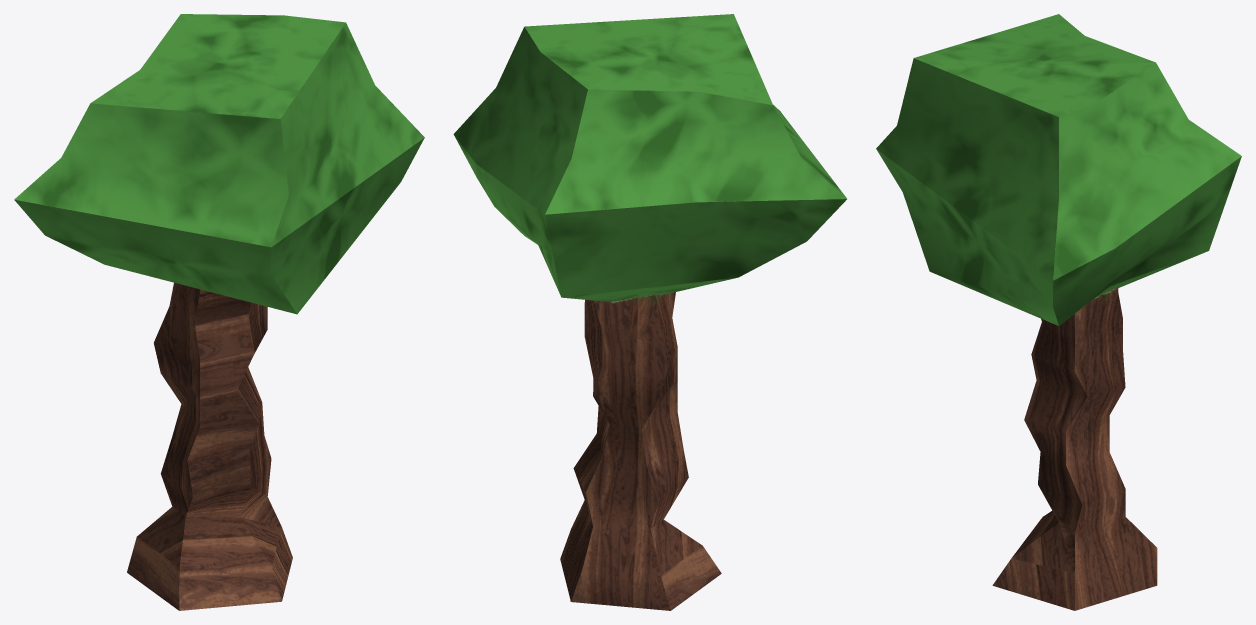
File: Trees.obj
3 renders of one model, left to right at view 1: azimuth 30°, elevation 25°; view 2: azimuth 150°, elevation 25°; view 3: azimuth 270°, elevation 25°, orthographic. The views are drawn at different scales.
Visible parts, largest first — view 1: Tree1; view 2: Tree1; view 3: Tree1.
Boxes of the visible parts, x1,y1,x2,y2 form: Tree1: (14,14,424,610); Tree1: (453,14,846,610); Tree1: (876,14,1241,610).
Bounding box in the file's own units: 3.88 × 4.82 × 3.11.
1 material, 1 textured.
